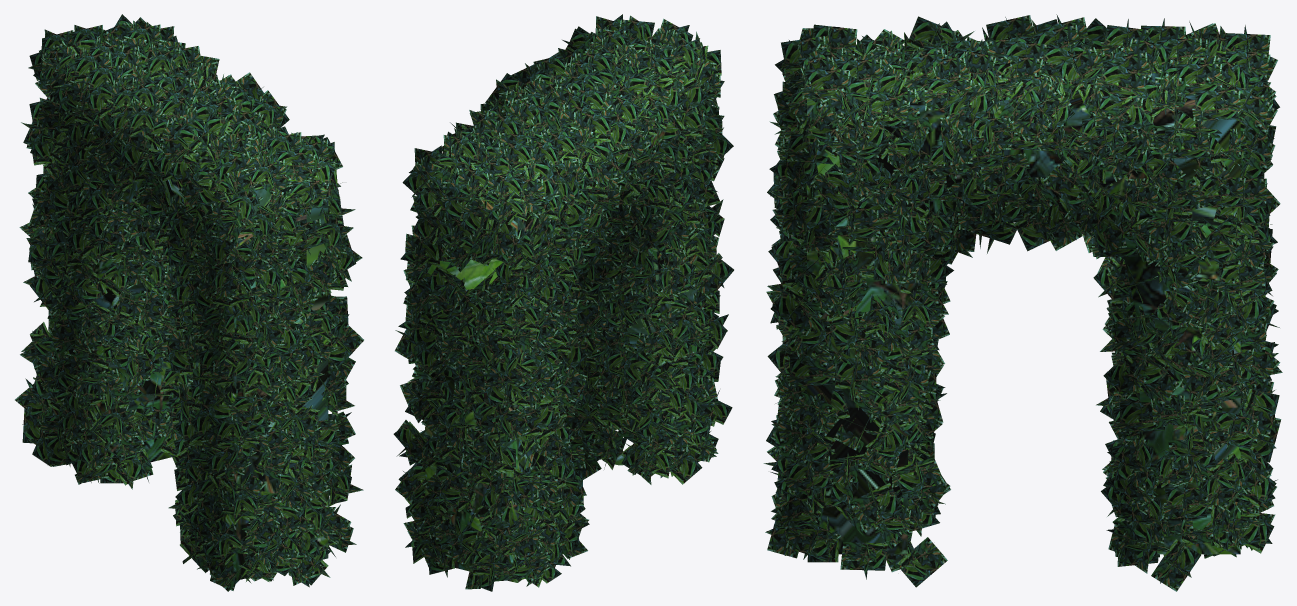
The model's file is SM_Hedge_Arch.fbx.
3 renders of one model, left to right at view 1: azimuth 30°, elevation 25°; view 2: azimuth 150°, elevation 25°; view 3: azimuth 270°, elevation 25°, orthographic. The views are drawn at different scales.
Parts seen in each view (by area): view 1: SM_HedgeArch; view 2: SM_HedgeArch; view 3: SM_HedgeArch.
Boxes of the visible parts, bbox=[...] form: SM_HedgeArch: bbox=[15, 14, 363, 591]; SM_HedgeArch: bbox=[393, 14, 733, 591]; SM_HedgeArch: bbox=[763, 14, 1282, 591].
Size of what is drawn, in the model's own units: 2721 by 7429 by 6712.
